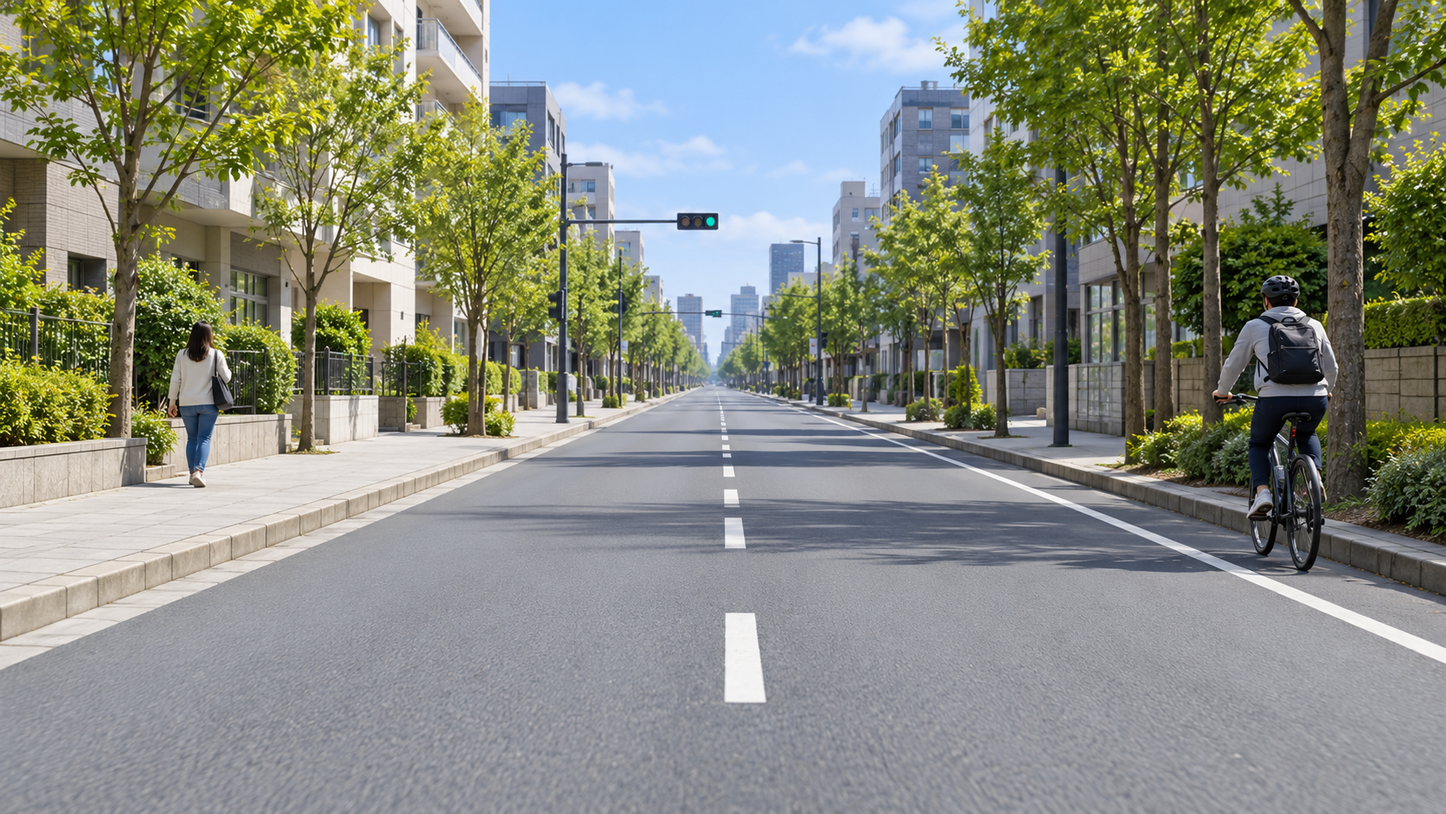bicycle: (1267, 144, 1366, 277)
person: (1264, 99, 1364, 272), (188, 111, 244, 233)
traffic_light: (675, 77, 722, 125)
